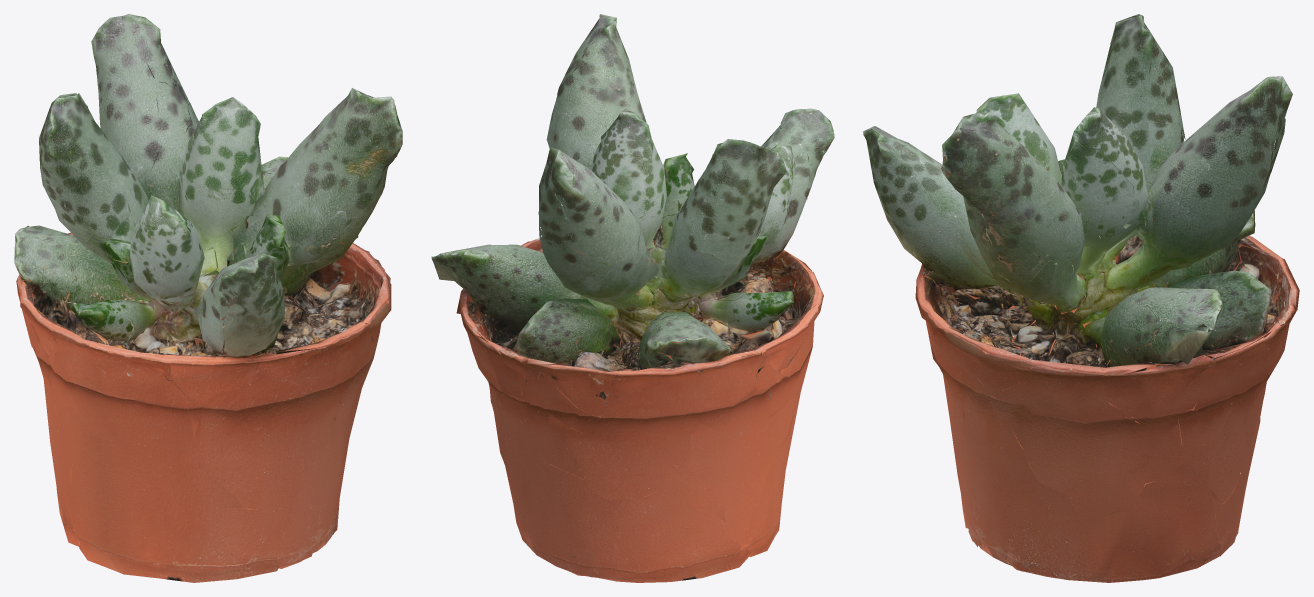
File: succulent_pot.glb
3 renders of one model, left to right at view 1: azimuth 30°, elevation 25°; view 2: azimuth 150°, elevation 25°; view 3: azimuth 270°, elevation 25°, orthographic. The views are drawn at different scales.
Parts seen in each view (by area): view 1: Model_material1_0, Model_material0_0, Model_material2_0; view 2: Model_material1_0, Model_material0_0, Model_material2_0; view 3: Model_material0_0, Model_material2_0, Model_material1_0.
Boxes of the visible parts, x1,y1,x2,y2 form: Model_material1_0: (14,14,402,582); Model_material0_0: (15,78,391,568); Model_material2_0: (39,14,378,568); Model_material1_0: (432,14,822,582); Model_material0_0: (461,108,834,579); Model_material2_0: (431,57,823,576); Model_material0_0: (863,93,1299,580); Model_material2_0: (892,14,1290,582); Model_material1_0: (917,15,1296,528).
Size of the model in its own units: 0.1248 by 0.1644 by 0.1399.
Materials: 3 (3 with a texture image).
